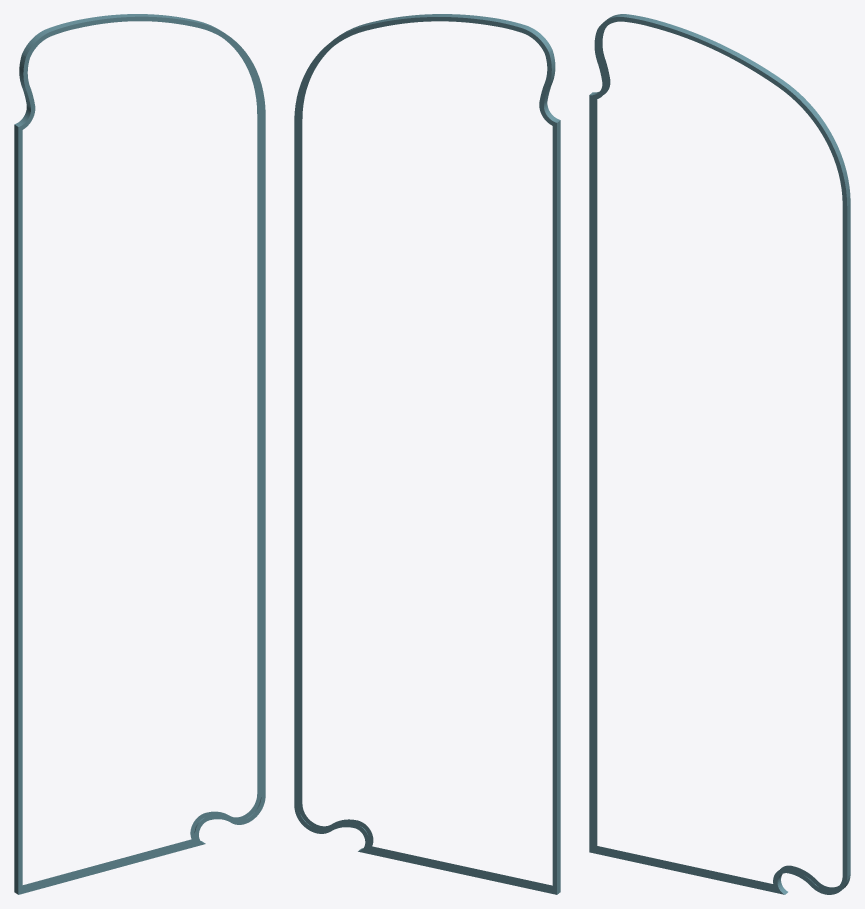
Rendered from original-8.obj.
3 views of the same model, side by side, from view 1: azimuth 30°, elevation 25°; view 2: azimuth 150°, elevation 25°; view 3: azimuth 330°, elevation 25° (orthographic).
Parts seen in each view (by area): view 1: #ID74; view 2: #ID74; view 3: #ID74.
Part boxes in pixels (box(x1,y1,x2,y2)): #ID74: box(14, 14, 265, 894); #ID74: box(294, 14, 560, 894); #ID74: box(589, 14, 850, 894).
Bounding box in the file's own units: 0.4754 × 1.53 × 0.0355.
